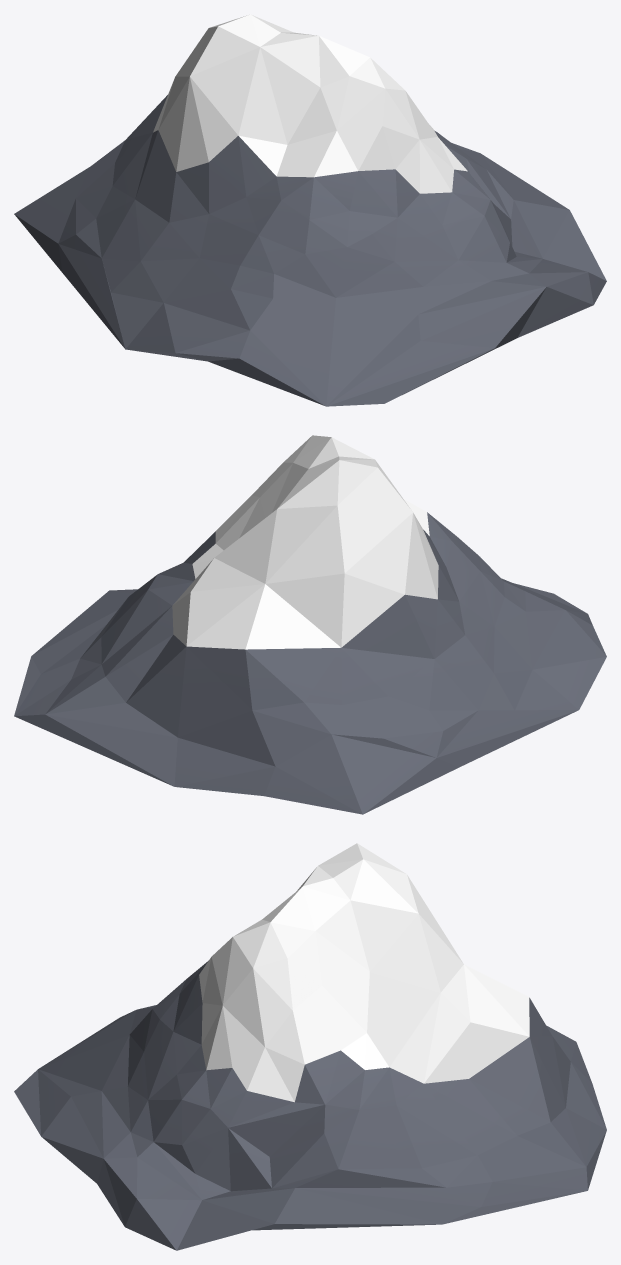
Rendered from Mountain_05.fbx.
3 renders of one model, top to bottom at view 1: azimuth 30°, elevation 25°; view 2: azimuth 150°, elevation 25°; view 3: azimuth 270°, elevation 25°, orthographic.
Parts seen in each view (by area): view 1: Mountain_05; view 2: Mountain_05; view 3: Mountain_05.
Part boxes in pixels (<box>): Mountain_05: <box>14,14,606,406</box>; Mountain_05: <box>14,435,606,814</box>; Mountain_05: <box>14,843,606,1250</box>.
Bounding box in the file's own units: 71.67 × 39.32 × 80.34.
